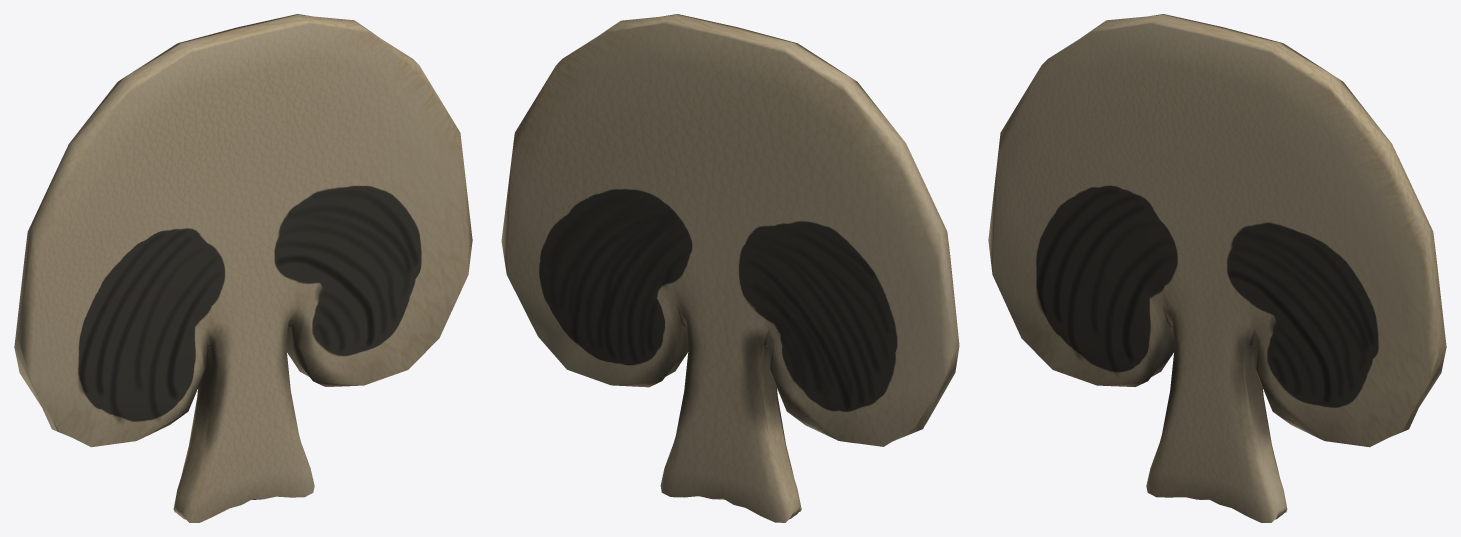
The model's file is Mushroom Slice.glb.
3 renders of one model, left to right at view 1: azimuth 30°, elevation 25°; view 2: azimuth 150°, elevation 25°; view 3: azimuth 330°, elevation 25°, orthographic.
Visible parts, largest first — view 1: Mushroom; view 2: Mushroom; view 3: Mushroom.
Boxes of the visible parts, box(x1,y1,x2,y2) form: Mushroom: box(14, 14, 472, 522); Mushroom: box(501, 14, 959, 522); Mushroom: box(988, 14, 1446, 522).
Size of the model in its own units: 1.23 by 1.22 by 0.098.
Materials: 1 (1 with a texture image).
